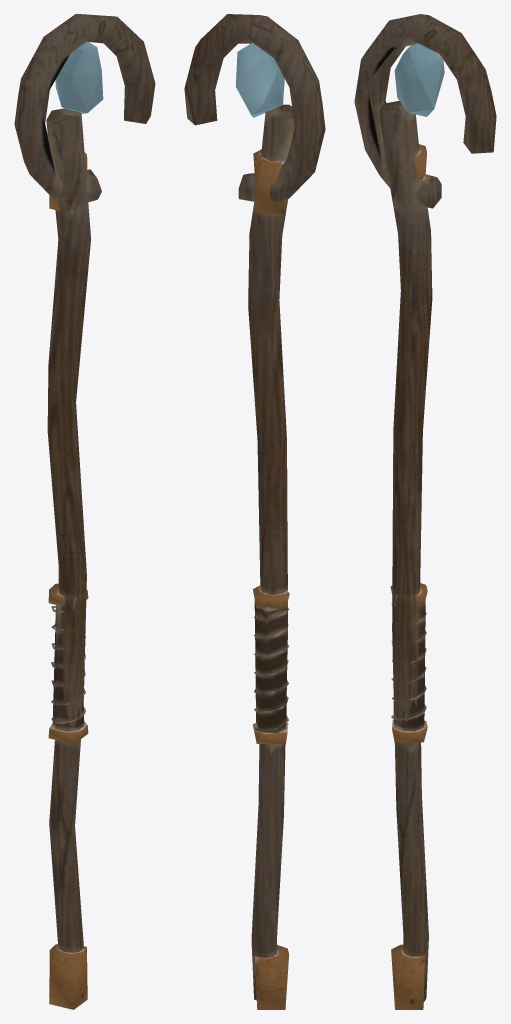
File: eq_staff_1_lod1.glb
3 views of the same model, side by side, from view 1: azimuth 30°, elevation 25°; view 2: azimuth 150°, elevation 25°; view 3: azimuth 330°, elevation 25° (orthographic).
Visible parts, largest first — view 1: eq_staff_1_lod1; view 2: eq_staff_1_lod1; view 3: eq_staff_1_lod1.
Boxes of the visible parts, box(x1,y1,x2,y2) form: eq_staff_1_lod1: box(14, 14, 155, 1009); eq_staff_1_lod1: box(184, 14, 325, 1009); eq_staff_1_lod1: box(354, 14, 496, 1009).
Size of the model in its own units: 0.2485 by 1.71 by 0.0805.
Materials: 1 (1 with a texture image).
